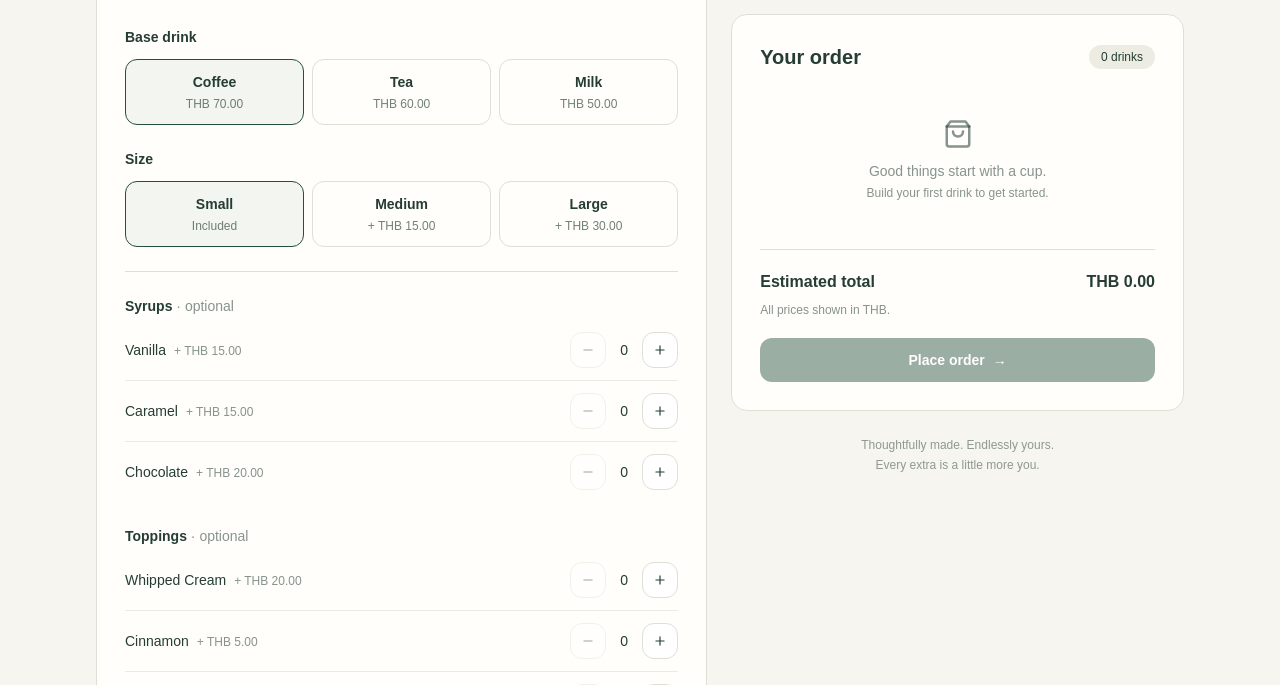
Test case: Coffee ordering › adds the configured drink and resets the builder
(page scrolled)
Click the button named "Add Vanilla" at {"x": 660, "y": 350}, box [642,332,678,368]
(page scrolled)
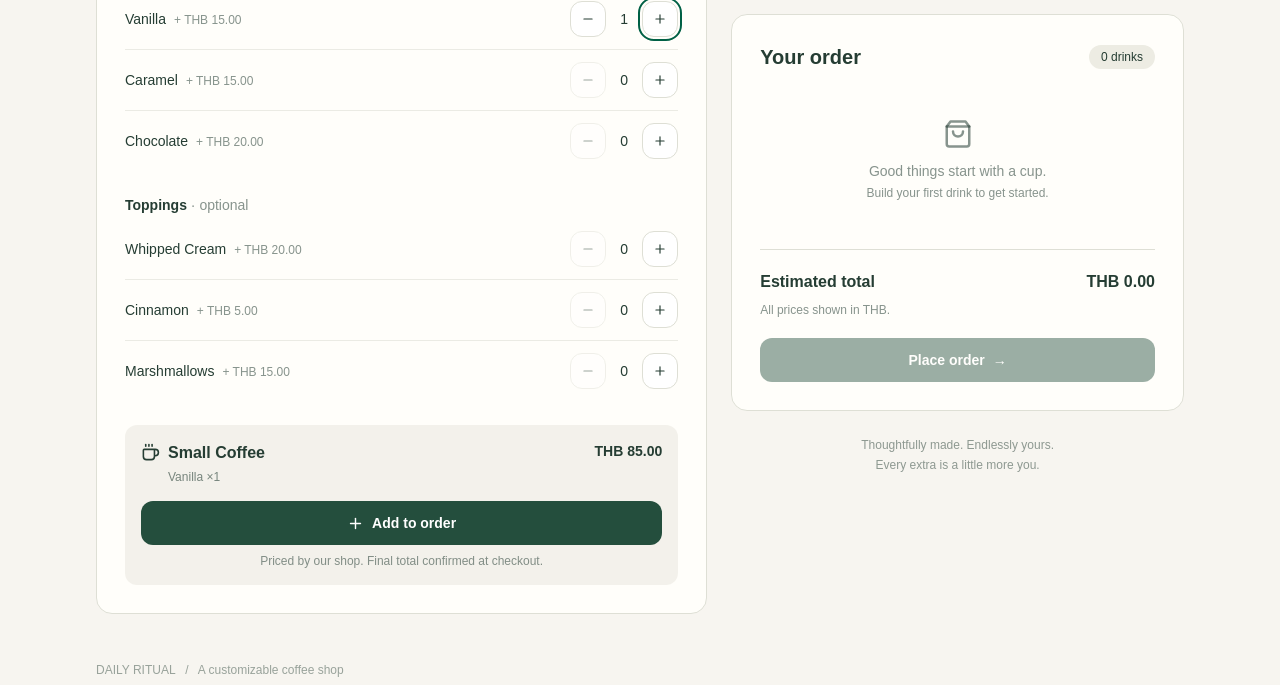
Click the button "Add to order" at {"x": 402, "y": 523}, box [141,501,662,545]
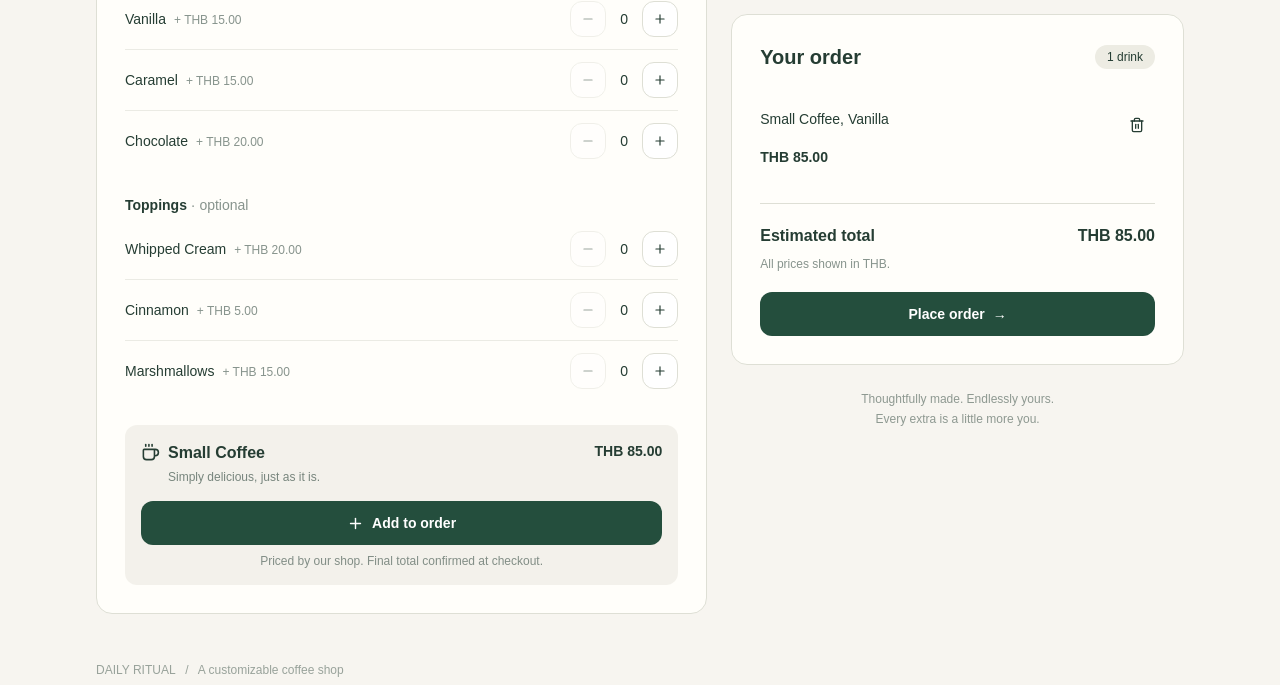
Expected: the text "Small Coffee, Vanilla" is shown, [760,107,889,131]
Expected: the text named "Vanilla quantity" reads "0", [620,11,628,27]
